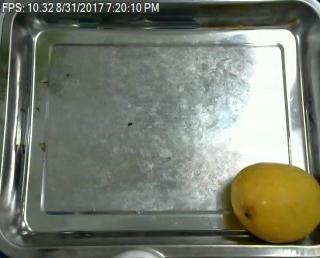Mango: (227, 161, 320, 244)
